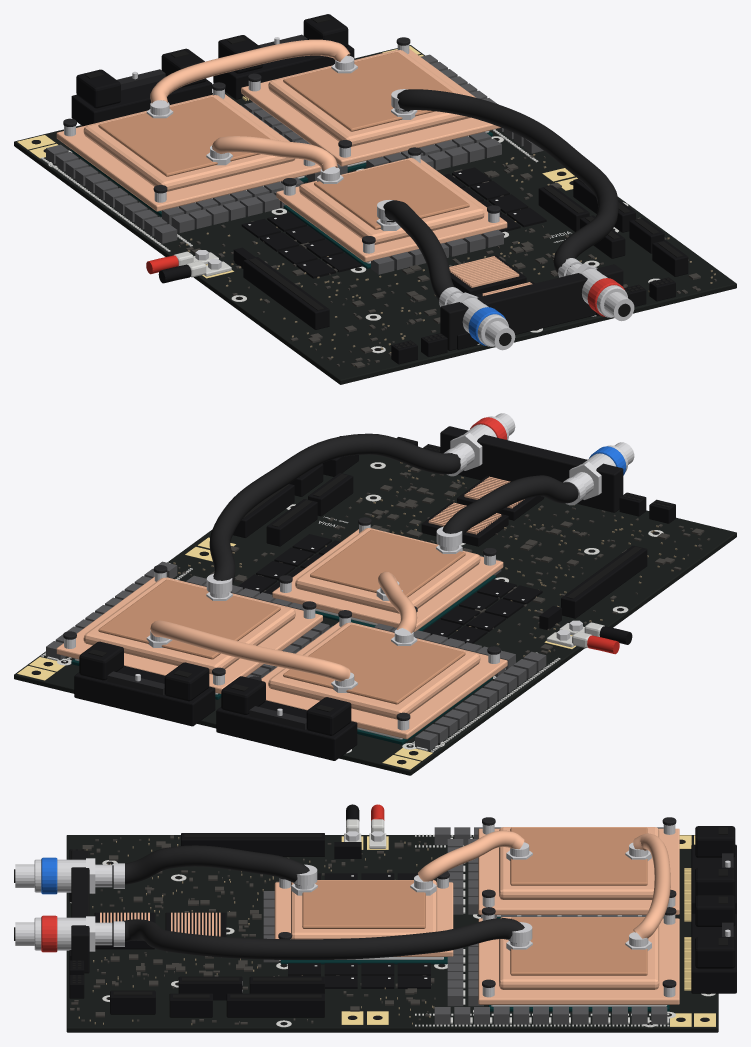
File: gpu_gb200_superchip.glb
The picture shows the model from 3 angles, top to bottom: view 1: azimuth 30°, elevation 25°; view 2: azimuth 150°, elevation 25°; view 3: azimuth 270°, elevation 25°; orthographic projection.
Visible parts, largest first — view 1: PCB, VRM_Chokes, Coolant_4_Hose_Out, ColdPlate_GPU0_Cap, ColdPlate_GPU1_Cap, LPDDR5X, ColdPlate_GPU0_Base, QD_Bracket, ColdPlate_GPU1_Base, ColdPlate_CPU_Cap, ColdPlate_CPU_Base, ColdPlate_GPU0_Body (+24 smaller); view 2: PCB, ColdPlate_GPU0_Cap, Coolant_4_Hose_Out, VRM_Chokes, ColdPlate_GPU1_Cap, LPDDR5X, ColdPlate_CPU_Cap, QD_Bracket, ColdPlate_GPU0_Base, NVLink_Conn0_Body, NVLink_Conn1_Body, ColdPlate_CPU_Base (+25 smaller); view 3: PCB, Coolant_4_Hose_Out, VRM_Chokes, ColdPlate_GPU0_Cap, ColdPlate_GPU1_Cap, ColdPlate_CPU_Cap, ColdPlate_GPU1_Base, ColdPlate_GPU0_Base, Coolant_1_Hose_In, LPDDR5X, SMD_Parts, ColdPlate_GPU1_Body (+38 smaller).
Boxes of the visible parts, x1,y1,x2,y2 form: PCB: [14, 45, 736, 384]; VRM_Chokes: [46, 54, 543, 274]; Coolant_4_Hose_Out: [397, 89, 618, 272]; ColdPlate_GPU0_Cap: [98, 97, 270, 176]; ColdPlate_GPU1_Cap: [283, 52, 453, 131]; LPDDR5X: [241, 167, 546, 278]; ColdPlate_GPU0_Base: [56, 94, 321, 211]; QD_Bracket: [440, 264, 623, 350]; ColdPlate_GPU1_Base: [241, 49, 500, 166]; ColdPlate_CPU_Cap: [314, 159, 469, 229]; ColdPlate_CPU_Base: [276, 159, 507, 262]; ColdPlate_GPU0_Body: [83, 95, 295, 191]; PCB: [14, 436, 736, 775]; ColdPlate_GPU0_Cap: [283, 624, 465, 704]; Coolant_4_Hose_Out: [209, 433, 460, 584]; VRM_Chokes: [46, 555, 546, 750]; ColdPlate_GPU1_Cap: [98, 579, 280, 659]; LPDDR5X: [238, 534, 542, 643]; ColdPlate_CPU_Cap: [310, 529, 465, 597]; QD_Bracket: [440, 426, 623, 512]; ColdPlate_GPU0_Base: [261, 622, 507, 739]; NVLink_Conn0_Body: [216, 700, 357, 760]; NVLink_Conn1_Body: [74, 665, 215, 726]; ColdPlate_CPU_Base: [272, 529, 503, 631]; PCB: [66, 835, 718, 1032]; Coolant_4_Hose_Out: [112, 918, 524, 959]; VRM_Chokes: [263, 827, 667, 1024]; ColdPlate_GPU0_Cap: [510, 827, 647, 885]; ColdPlate_GPU1_Cap: [510, 917, 647, 975]; ColdPlate_CPU_Cap: [302, 880, 425, 928]; ColdPlate_GPU1_Base: [478, 918, 679, 1004]; ColdPlate_GPU0_Base: [478, 828, 679, 914]; Coolant_1_Hose_In: [112, 845, 309, 885]; LPDDR5X: [288, 873, 430, 988]; SMD_Parts: [70, 835, 435, 1024]; ColdPlate_GPU1_Body: [499, 917, 659, 989].
Size of the model in its own units: 0.2176 by 0.0331 by 0.316.
